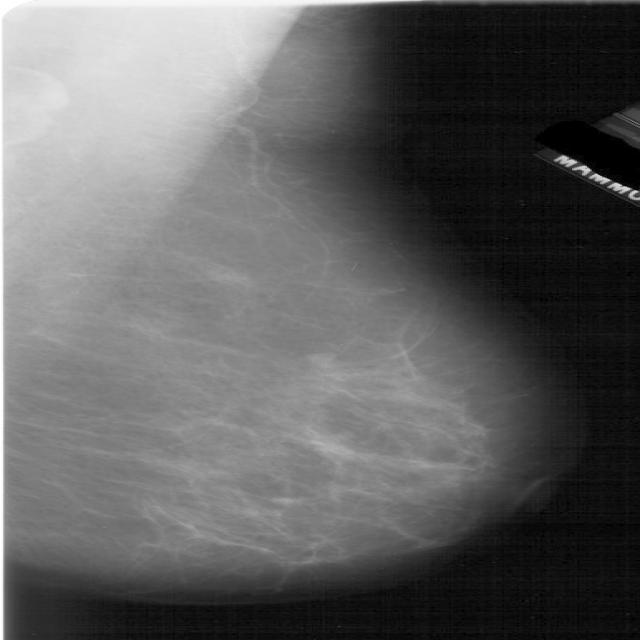tumour: (304, 352, 336, 368)
